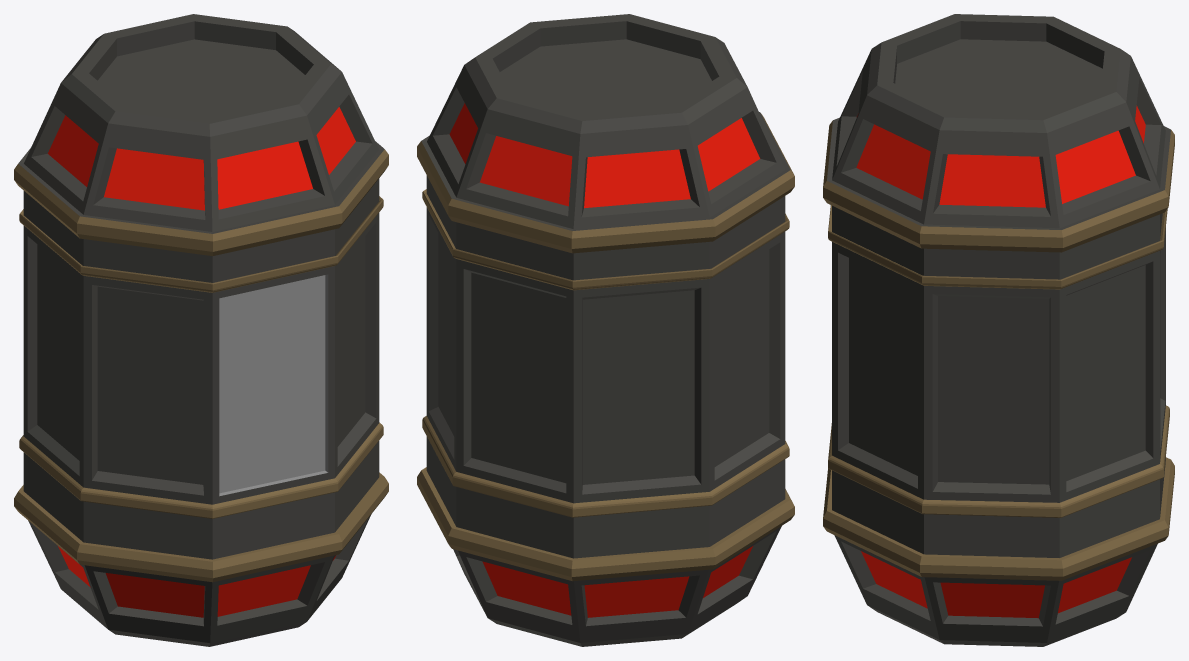
The model's file is OldBarrel.fbx.
The picture shows the model from 3 angles, left to right: view 1: azimuth 30°, elevation 25°; view 2: azimuth 150°, elevation 25°; view 3: azimuth 270°, elevation 25°; orthographic projection.
Parts seen in each view (by area): view 1: Cylinder.002; view 2: Cylinder.002; view 3: Cylinder.002.
Boxes of the visible parts, x1,y1,x2,y2 form: Cylinder.002: [14, 14, 388, 646]; Cylinder.002: [417, 14, 794, 646]; Cylinder.002: [823, 14, 1174, 646].
Bounding box in the file's own units: 148 × 237 × 144.
